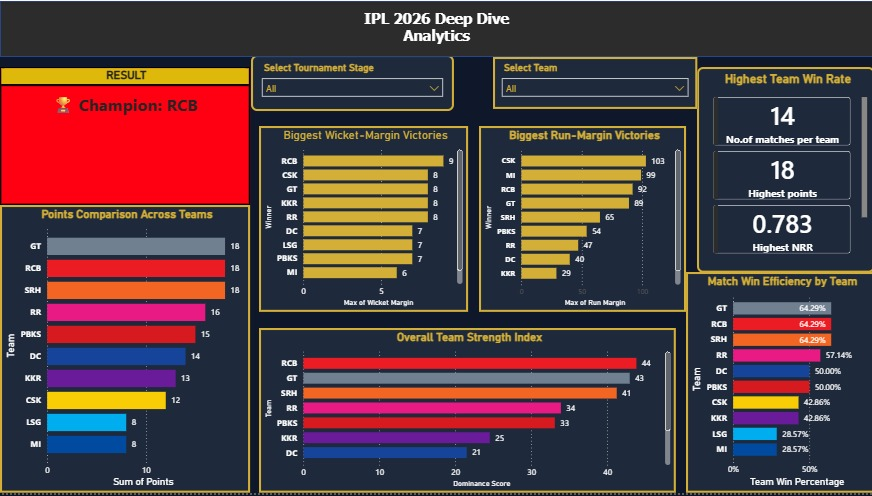

The dashboard page shown, as its layout file describes it:
{"tool":"powerbi","page":{"name":"Team Performance Overview","canvas":[1280,720],"ordinal":0},"visuals":[{"type":"cardVisual","title":"Highest Team Win Rate","fields":{"Data":["Max(ipl_2026_points_table2.Matches)","Max(ipl_2026_points_table2.Points)","Max(ipl_2026_points_table2.NRR)","ipl_2026_points_table2.Highest Win Percentage"]},"box":[1020,96.6,260.5,301.5],"z":0},{"type":"textbox","title":"RESULT","box":[0,96.6,365.9,202],"z":1000},{"type":"clusteredBarChart","title":"Points Comparison Across Teams","fields":{"Category":["ipl_2026_points_table2.Team"],"Y":["Sum(ipl_2026_points_table2.Points)"]},"box":[0,298.5,365.9,421.5],"z":2000},{"type":"clusteredBarChart","title":"Match Win Efficiency by Team","fields":{"Category":["ipl_2026_points_table2.Team"],"Y":["ipl_2026_points_table2.Team Win Percentage"]},"box":[1003.9,396.6,276.6,323.4],"z":3000},{"type":"clusteredBarChart","title":"Overall Team Strength Index","fields":{"Category":["ipl_2026_points_table2.Team"],"Y":["ipl_2026_points_table2.Dominance Score"]},"box":[379,478.5,610.2,241.5],"z":4000},{"type":"slicer","fields":{"Values":["ipl_2026_points_table2.Team"]},"box":[721.5,82,298.5,76.1],"z":5000},{"type":"slicer","fields":{"Values":["ipl_matches.Stage"]},"box":[367.3,79,297.1,82],"z":6000},{"type":"shape","box":[0,0,1280.5,82],"z":7000},{"type":"textbox","box":[488.8,7.3,300,67.3],"z":8000},{"type":"clusteredBarChart","title":"Biggest Run-Margin Victories","fields":{"Category":["ipl_matches.Winner"],"Y":["Max(ipl_matches.Run Margin)"]},"box":[701,182.9,302.9,272.2],"z":9000},{"type":"clusteredBarChart","title":"Biggest Wicket-Margin Victories","fields":{"Category":["ipl_matches.Winner"],"Y":["Max(ipl_matches.Wicket Margin)"]},"box":[379,182.9,305.9,272.2],"z":10000}]}

Visuals, with their boxes in screenshot pixels (x1, y1, x2, y2), scaled from the page's 1280x720 canvas onto the 872x496 screenshot:
"Highest Team Win Rate" cardVisual: bbox=(695, 67, 871, 274)
"RESULT" textbox: bbox=(0, 67, 249, 206)
"Points Comparison Across Teams" clusteredBarChart: bbox=(0, 206, 249, 495)
"Match Win Efficiency by Team" clusteredBarChart: bbox=(684, 273, 871, 495)
"Overall Team Strength Index" clusteredBarChart: bbox=(258, 330, 674, 495)
slicer - ipl_2026_points_table2.Team: bbox=(492, 56, 695, 109)
slicer - ipl_matches.Stage: bbox=(250, 54, 453, 111)
shape: bbox=(0, 0, 871, 56)
textbox: bbox=(333, 5, 537, 51)
"Biggest Run-Margin Victories" clusteredBarChart: bbox=(478, 126, 684, 314)
"Biggest Wicket-Margin Victories" clusteredBarChart: bbox=(258, 126, 467, 314)
